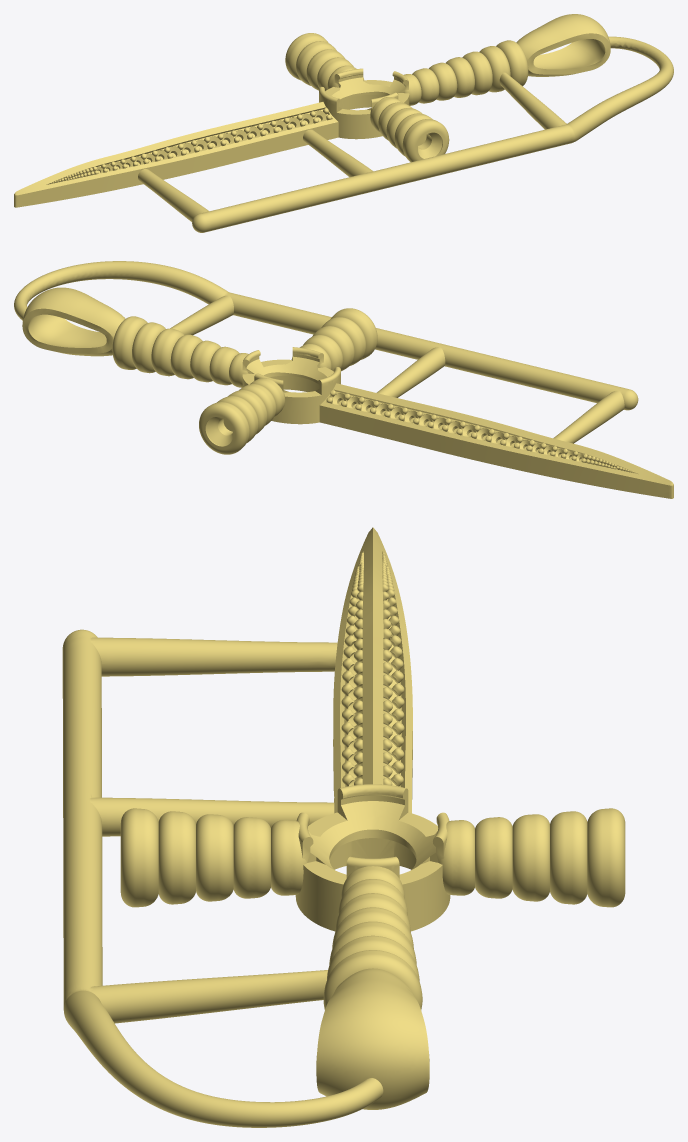
The model's file is kolyeler2-6.glb.
3 views of the same model, one above another, from view 1: azimuth 30°, elevation 25°; view 2: azimuth 150°, elevation 25°; view 3: azimuth 270°, elevation 25° (orthographic). The views are drawn at different scales.
Parts seen in each view (by area): view 1: Renderer Node; view 2: Renderer Node; view 3: Renderer Node.
Boxes of the visible parts, <box> form: Renderer Node: <box>14,14,673,232</box>; Renderer Node: <box>14,261,673,498</box>; Renderer Node: <box>62,527,625,1127</box>.
Bounding box in the file's own units: 74.35 × 6.2 × 29.16.
